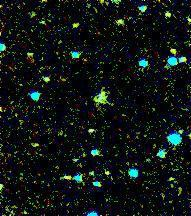star: (56, 13, 86, 43)
